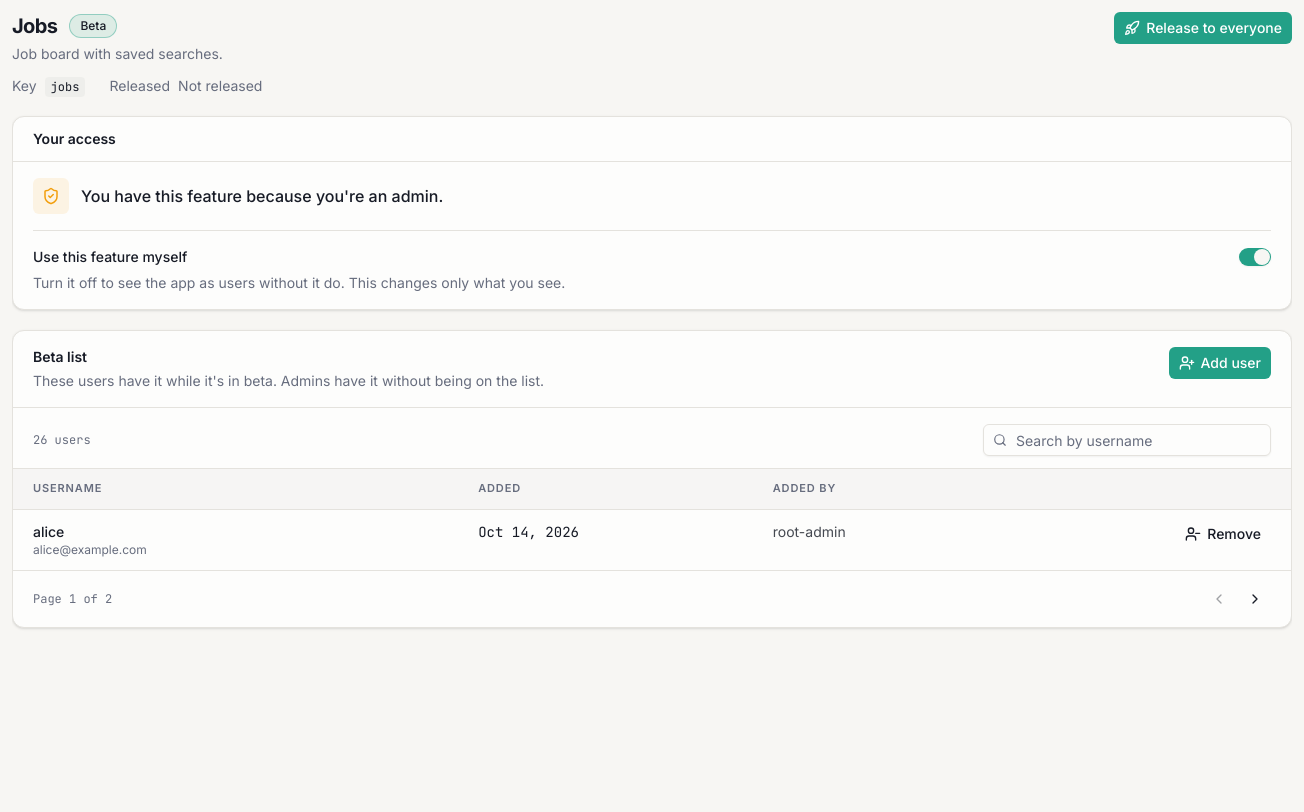
Test case: FeatureViewPage — beta list (AC2, AC4) › searches by username, back on page 1, and says when nothing matches
Click the button named "Next page": click(1255, 598) [1239,582,1271,614]
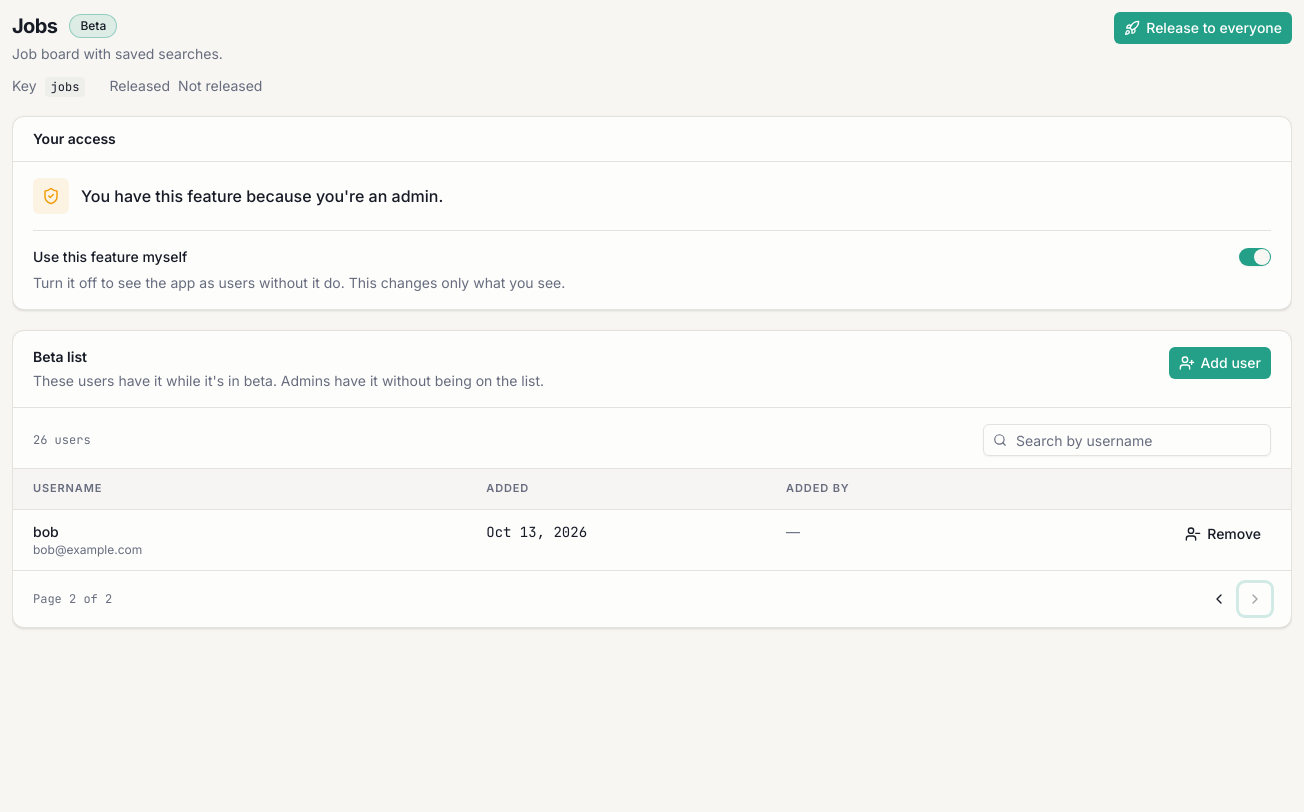
In the search field named "Search the beta list": (1127, 440) [983,424,1271,456], type "zed"
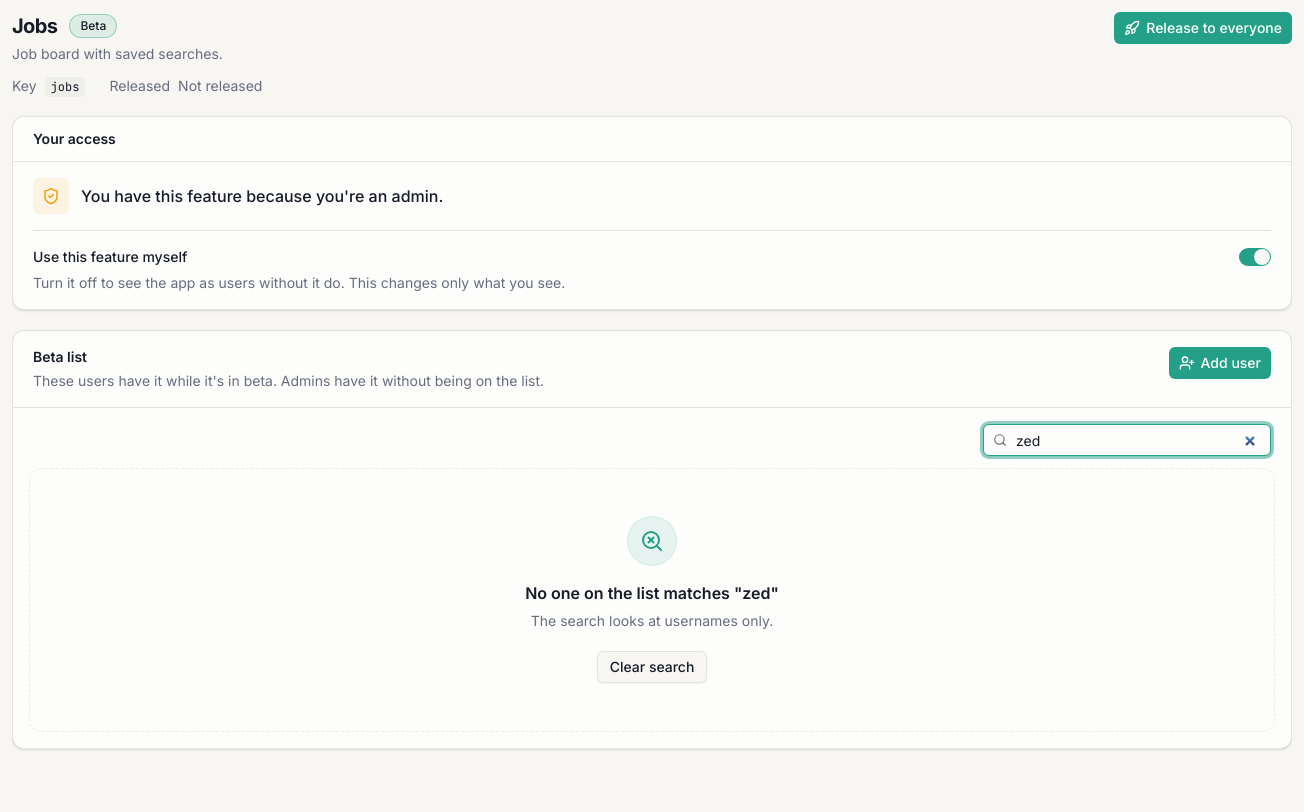
Now the heading "No one on the list matches \"zed\"" is shown, box [525,581,779,605]
Now the text "The search looks at usernames only." is shown, box [531,611,773,631]
